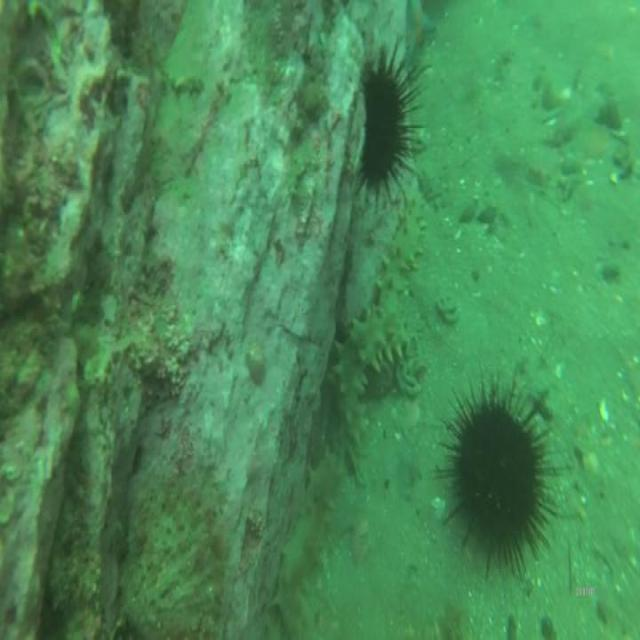echinus: (444, 376, 554, 575), (356, 49, 410, 196)
holothurian: (271, 431, 345, 640), (328, 303, 407, 444), (376, 184, 428, 322)
